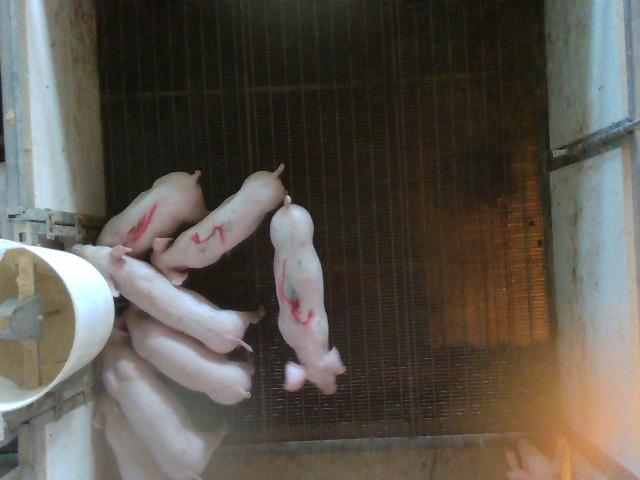pig-1: (98, 171, 208, 257)
pig-3: (270, 196, 345, 394)
pig-5: (151, 164, 286, 285)
